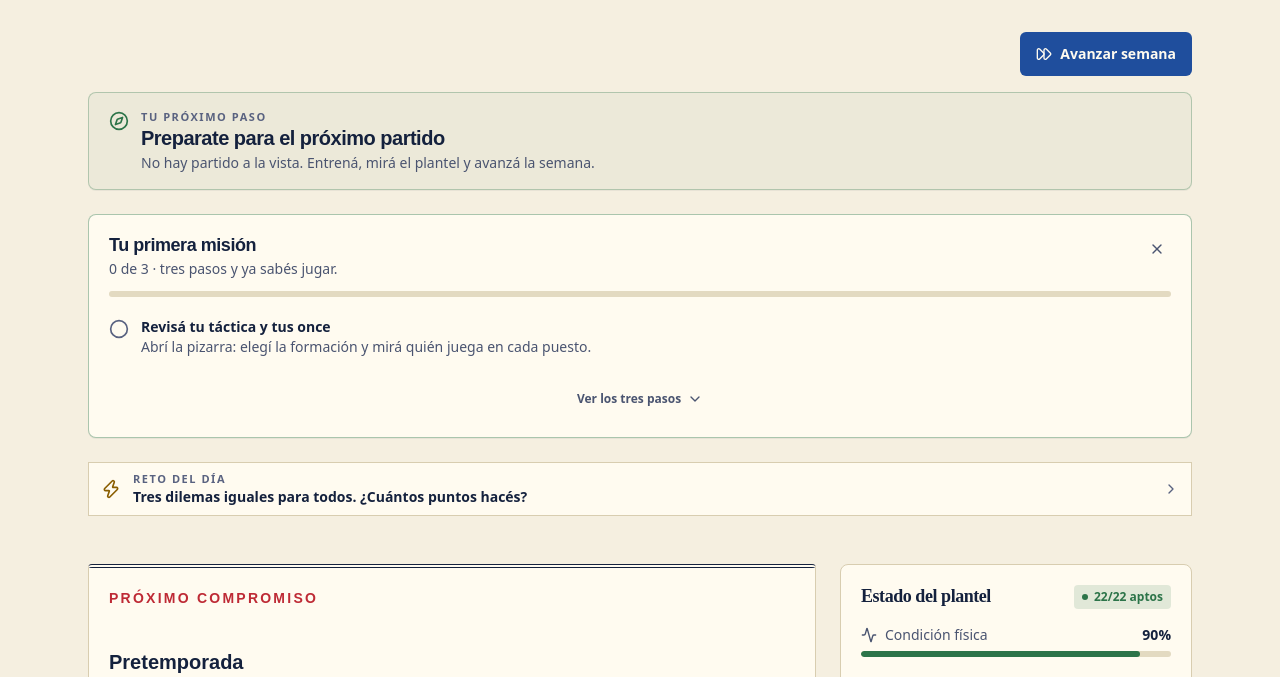
it: inicio: próximo paso y misión inicial › se puede ocultar y no vuelve; las cuentas anteriores no la ven
Later steps or results of the test are not shown.
Click the button named "Ocultar la misión inicial" at (1157, 248), box [1135,226,1179,270]
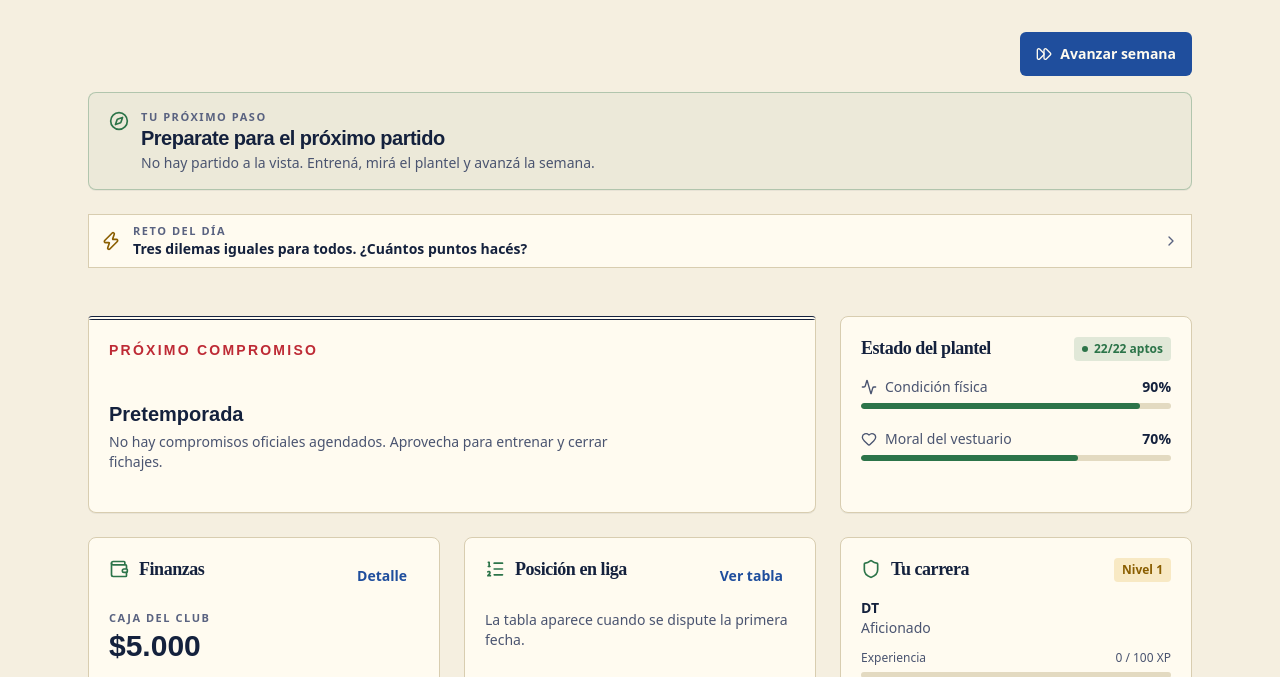
Expected: the heading "Tu primera misión" is gone
